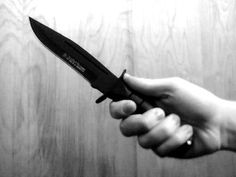knife: (25, 10, 156, 119)
